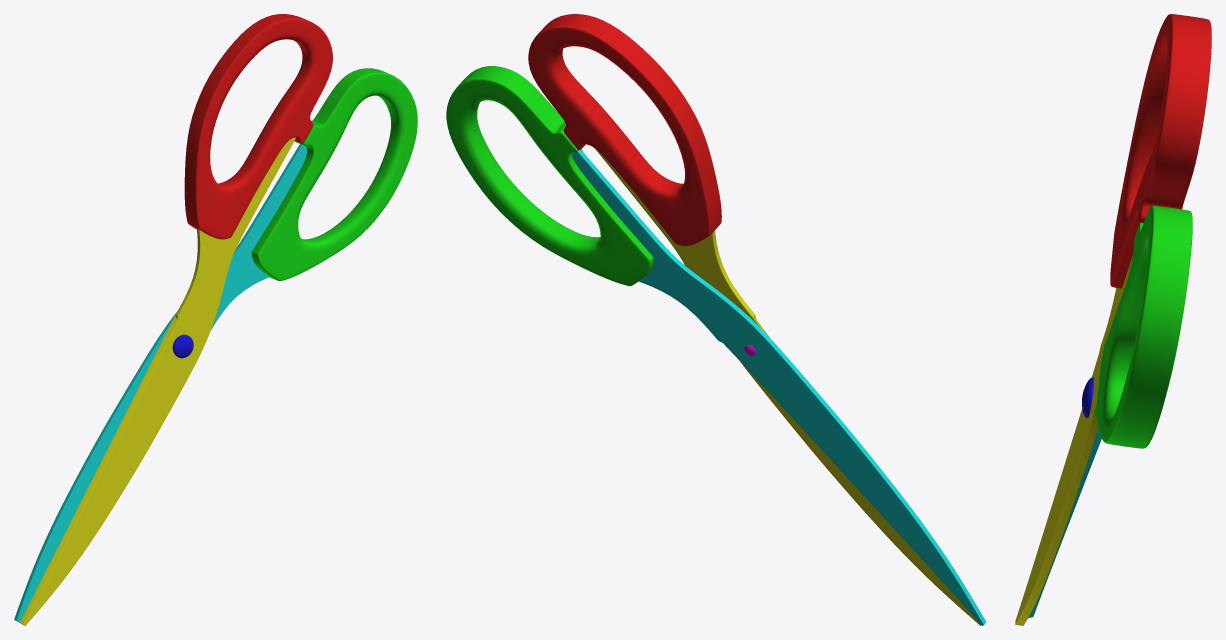
The model's file is scissors.glb.
3 renders of one model, left to right at view 1: azimuth 30°, elevation 25°; view 2: azimuth 150°, elevation 25°; view 3: azimuth 270°, elevation 25°, orthographic. The views are drawn at different scales.
Parts seen in each view (by area): view 1: Scissors_Aged_(Baked AO); view 2: Scissors_Aged_(Baked AO); view 3: Scissors_Aged_(Baked AO).
Part boxes in pixels (bbox=[...]): Scissors_Aged_(Baked AO): bbox=[14, 14, 417, 625]; Scissors_Aged_(Baked AO): bbox=[446, 14, 986, 625]; Scissors_Aged_(Baked AO): bbox=[1015, 14, 1211, 625].
Size of the model in its own units: 0.6571 by 0.7206 by 0.15.
